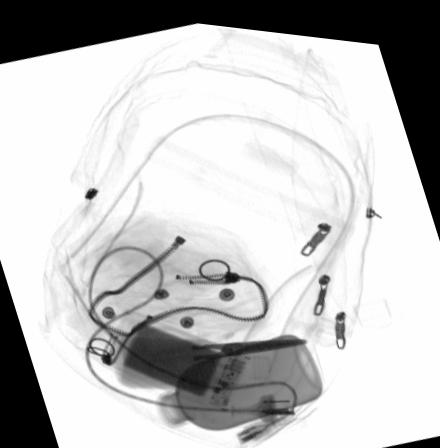Powerbank: (105, 307, 257, 407)
Scissors: (130, 319, 309, 384)
